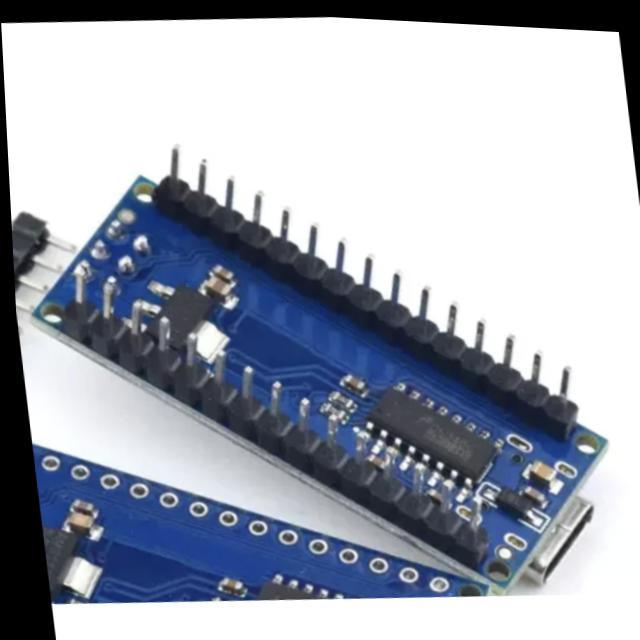Arduino-Nano: (36, 178, 605, 585)
